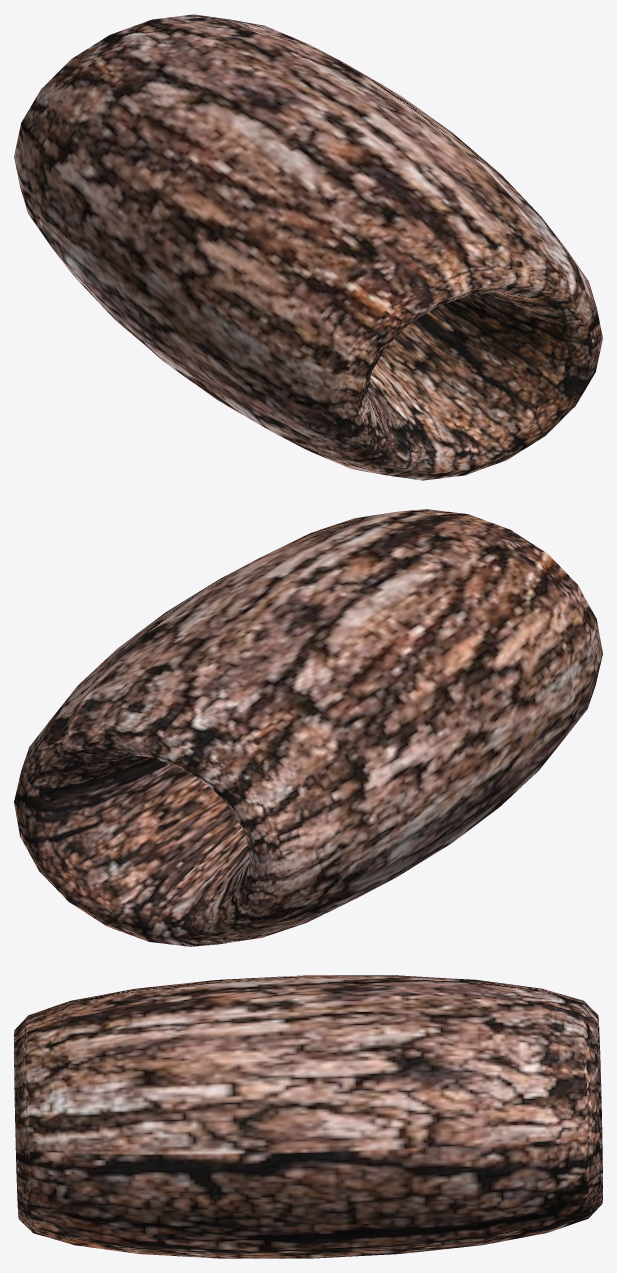
File: Llanta.obj
3 views of the same model, one above another, from view 1: azimuth 30°, elevation 25°; view 2: azimuth 150°, elevation 25°; view 3: azimuth 270°, elevation 25° (orthographic). The views are drawn at different scales.
Parts seen in each view (by area): view 1: pTorus1; view 2: pTorus1; view 3: pTorus1.
Part boxes in pixels (x1=…): pTorus1: x1=14, y1=14, x2=602, y2=480; pTorus1: x1=14, y1=509, x2=602, y2=946; pTorus1: x1=14, y1=975, x2=602, y2=1258.
Bounding box in the file's own units: 1.98 × 1.46 × 3.24.
Materials: 1 (1 with a texture image).
